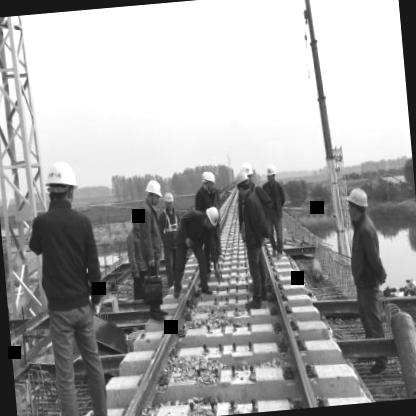helmet: (42, 156, 82, 211), (344, 182, 373, 226), (144, 176, 163, 207), (262, 159, 282, 188), (231, 170, 251, 196), (200, 168, 219, 194), (239, 160, 256, 186), (162, 188, 178, 214), (202, 204, 219, 228), (128, 209, 142, 232)
